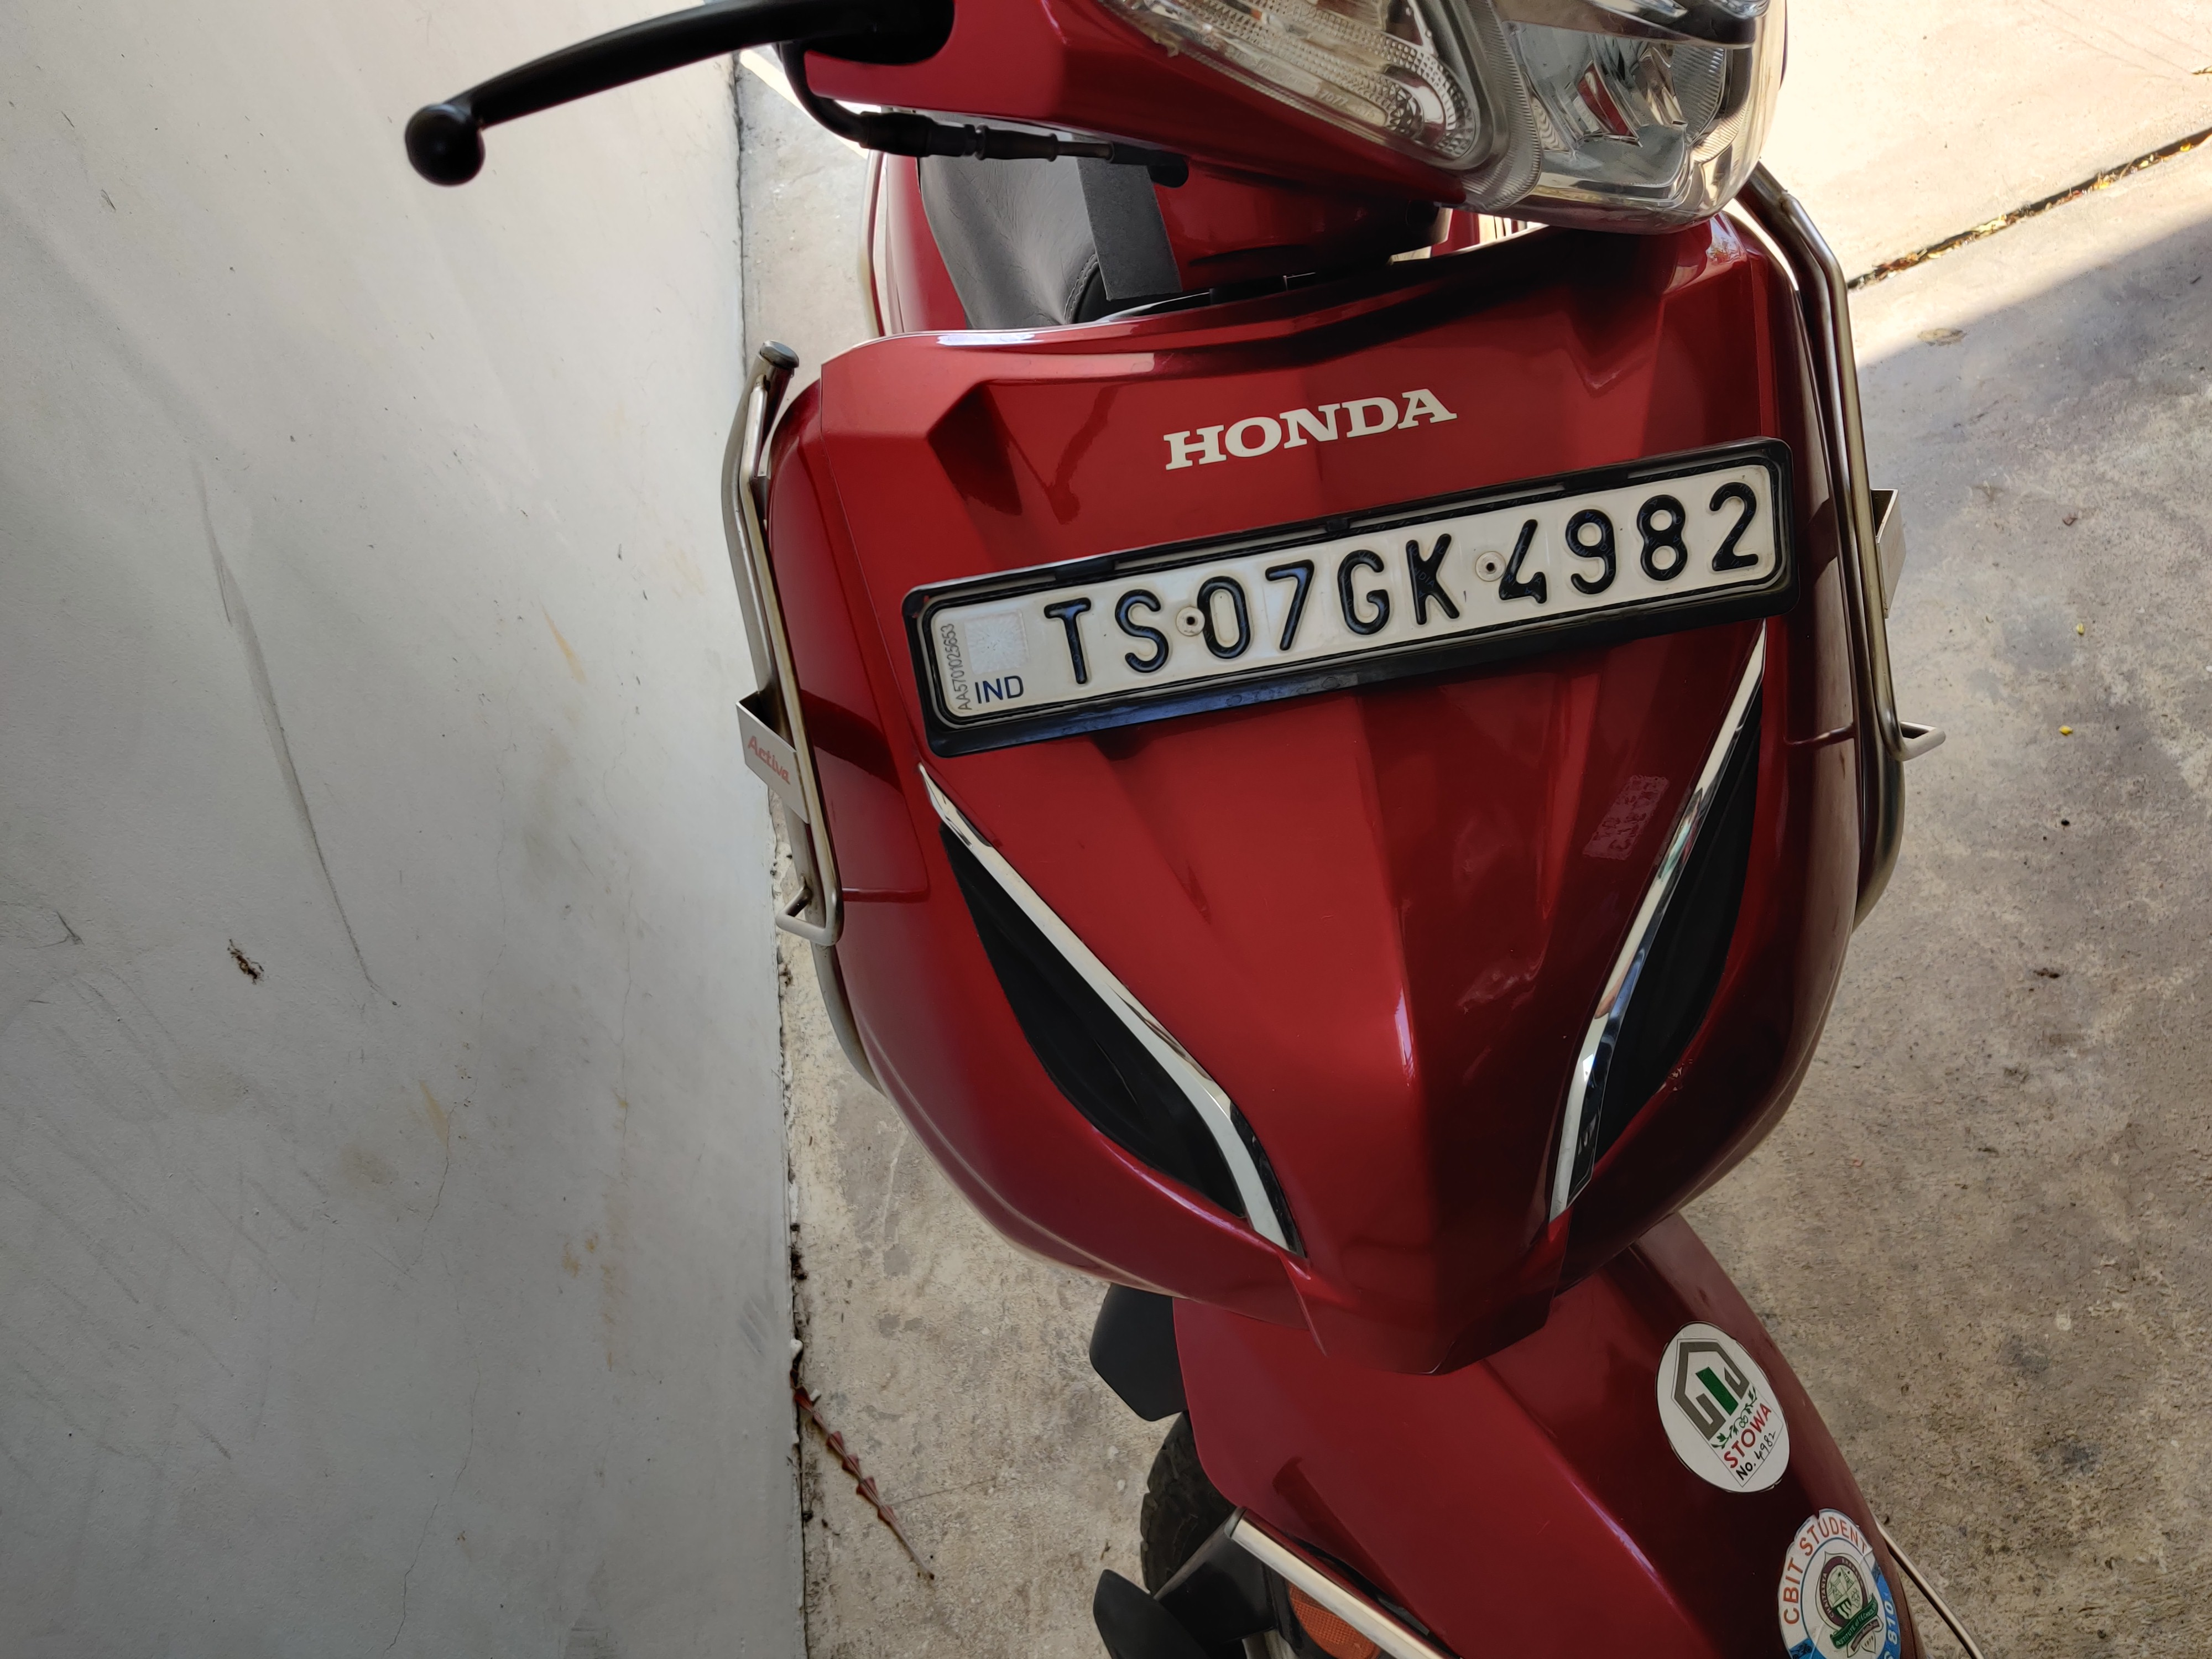plate: (839, 435, 1885, 776)
